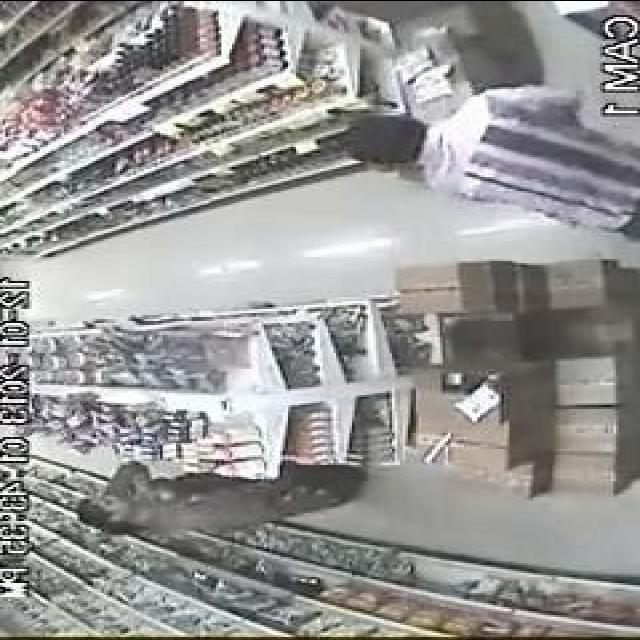Shoplifting: (58, 445, 405, 562)
